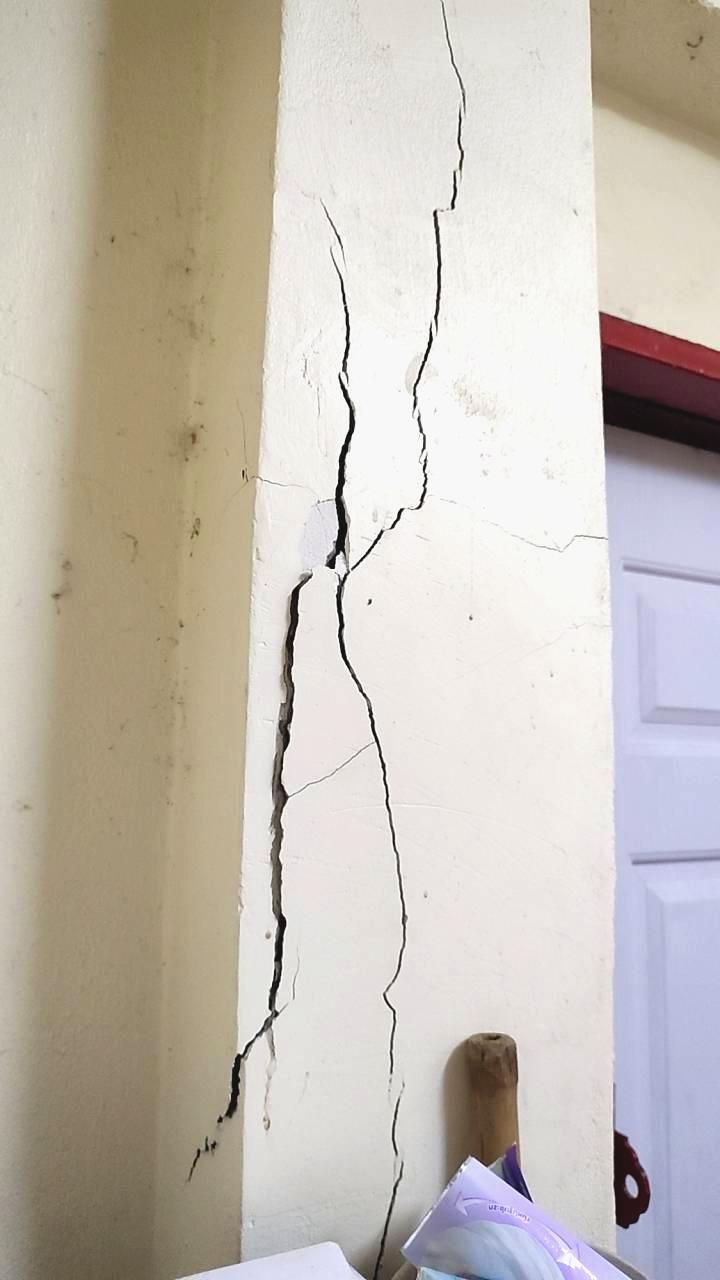High: (160, 2, 470, 1276)
